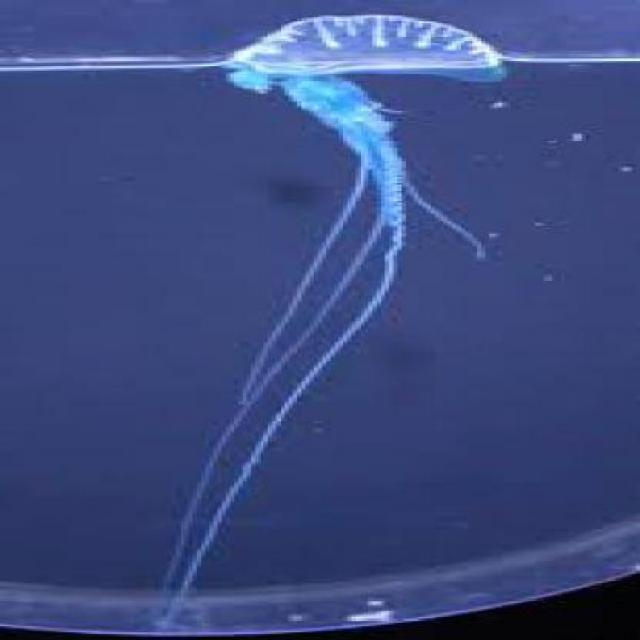Jellyfish: (200, 10, 532, 276)
